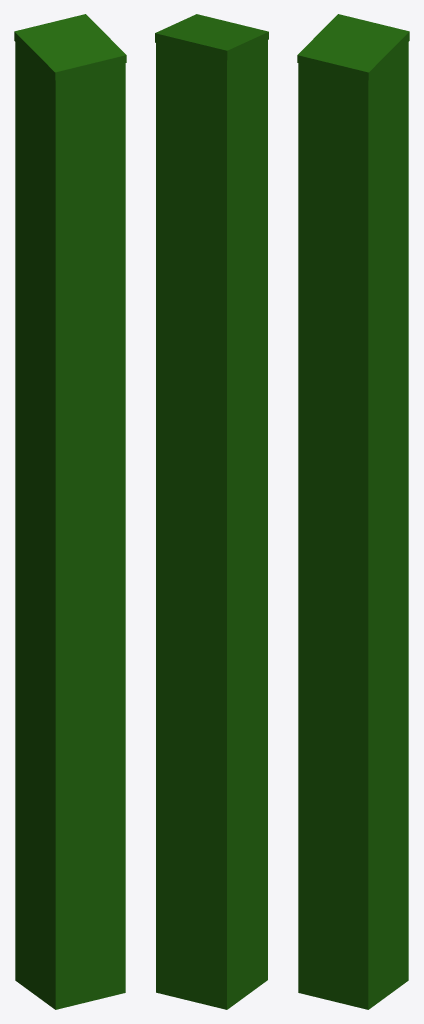
File: fence_post_1200.glb
The picture shows the model from 3 angles, left to right: view 1: azimuth 30°, elevation 25°; view 2: azimuth 150°, elevation 25°; view 3: azimuth 330°, elevation 25°; orthographic projection.
Visible parts, largest first — view 1: Cube.008; view 2: Cube.008; view 3: Cube.008.
Part boxes in pixels (left/top/right/bottom): Cube.008: left=14, top=14, right=126, bottom=1009; Cube.008: left=155, top=14, right=268, bottom=1009; Cube.008: left=297, top=14, right=409, bottom=1009.
Size of the model in its own units: 0.0947 by 1.2 by 0.0942.
Materials: 1 (1 with a texture image).
